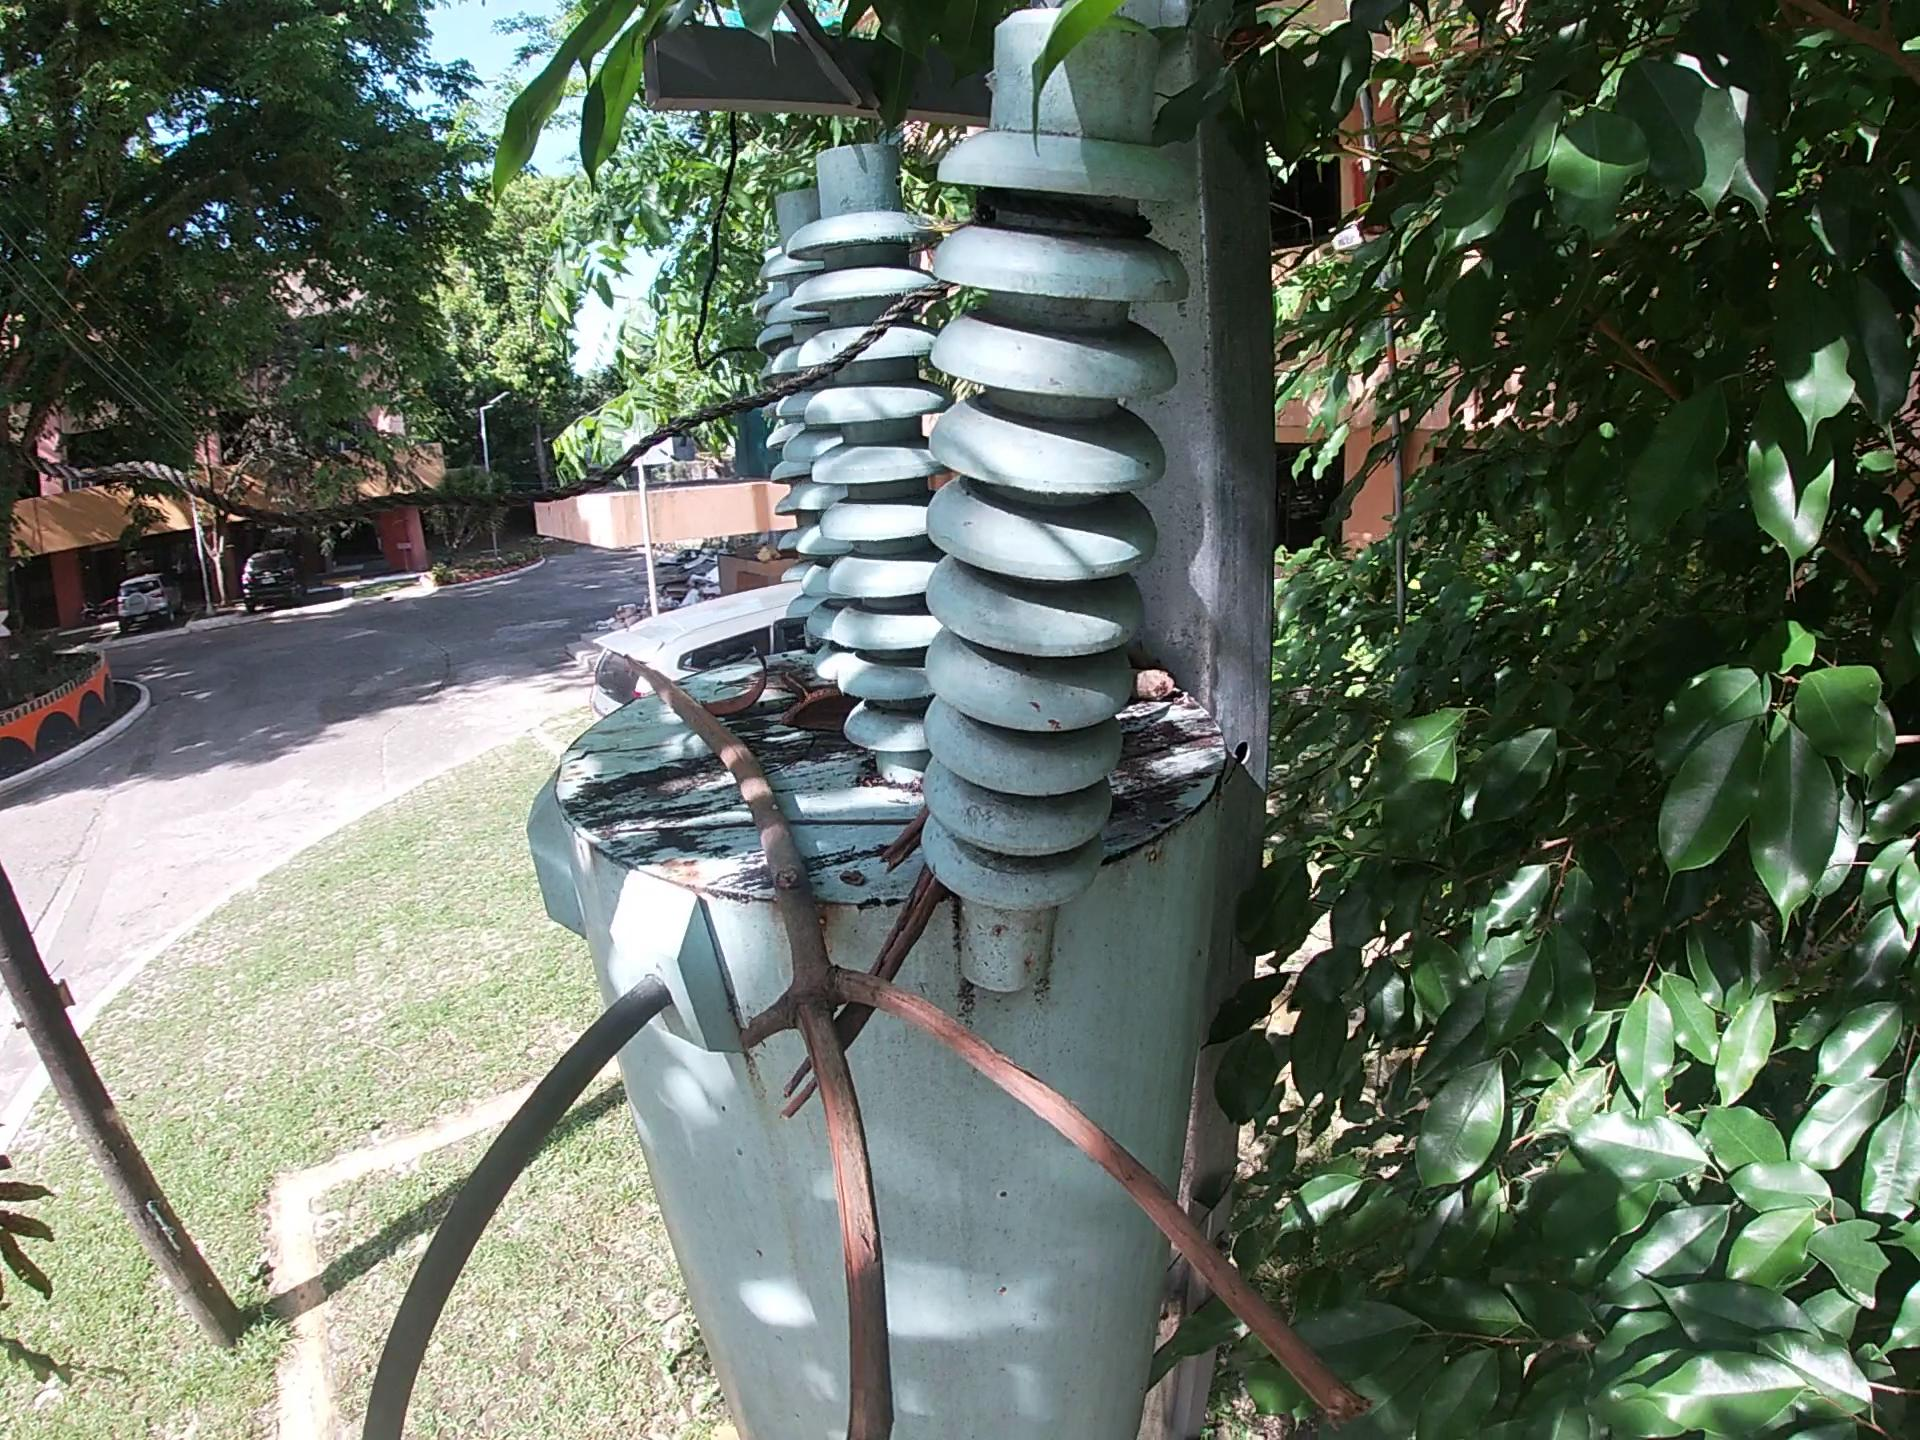mahogany fruit: (695, 647, 774, 720), (776, 685, 866, 737)
tree branch: (612, 650, 1374, 1438), (771, 864, 960, 1131), (1129, 664, 1178, 703)
